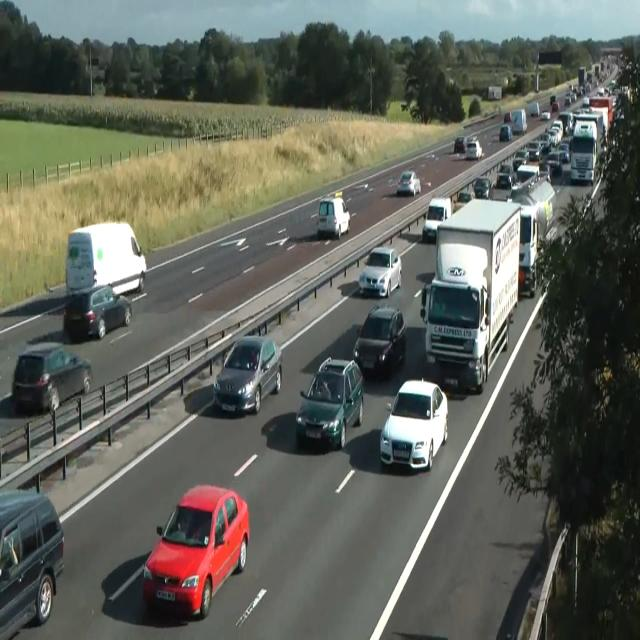bus: (143, 484, 250, 620), (295, 356, 364, 450), (380, 377, 448, 472), (12, 342, 91, 414), (212, 334, 282, 415), (64, 284, 132, 339), (358, 246, 402, 298), (396, 170, 421, 196), (472, 176, 492, 199), (453, 190, 471, 212), (524, 140, 542, 161), (465, 140, 483, 160), (558, 142, 570, 163), (500, 124, 512, 142), (454, 136, 466, 153), (529, 102, 539, 116), (504, 111, 512, 124), (541, 110, 551, 119), (552, 101, 559, 111)
jeep: (0, 488, 64, 637), (352, 304, 406, 377), (316, 195, 350, 239), (422, 195, 452, 242)
minibus: (419, 197, 521, 393), (65, 220, 146, 296), (507, 173, 555, 243), (569, 120, 599, 185), (518, 203, 538, 297), (503, 109, 527, 135), (487, 86, 502, 100)
